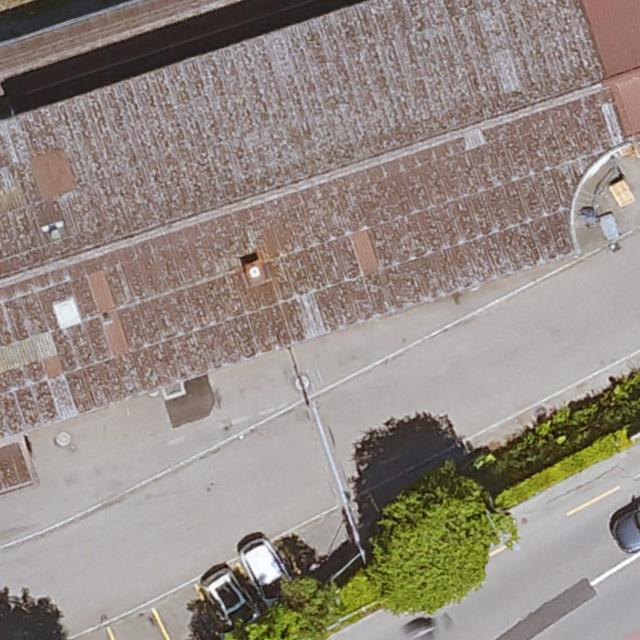tree: (367, 466, 504, 615), (273, 587, 334, 639), (219, 615, 275, 640)
